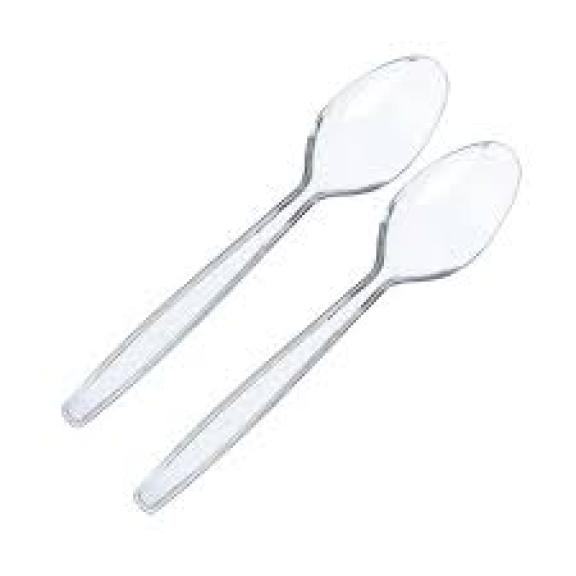Plastik: (136, 141, 519, 511), (62, 57, 447, 424)
